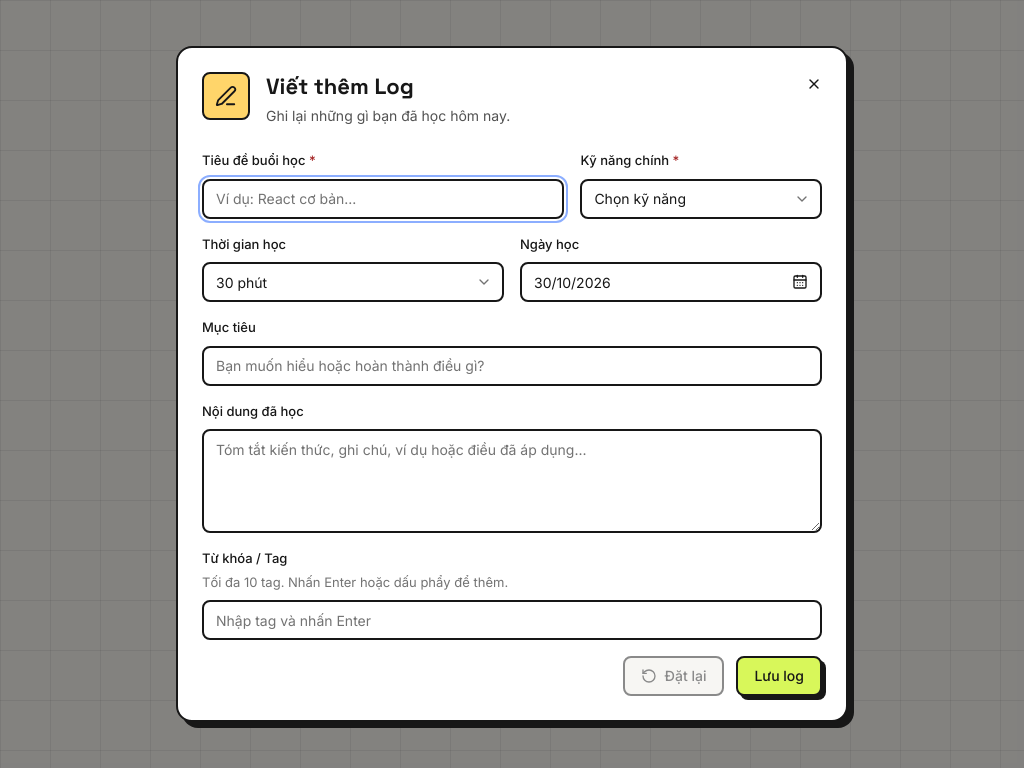
Scenario: closing and resetting › also asks when Escape is pressed on a changed form
Type "abc" into the field labelled "Tiêu đề buổi học *".
click(383, 199); type("abc")  # box [216,181,550,217]
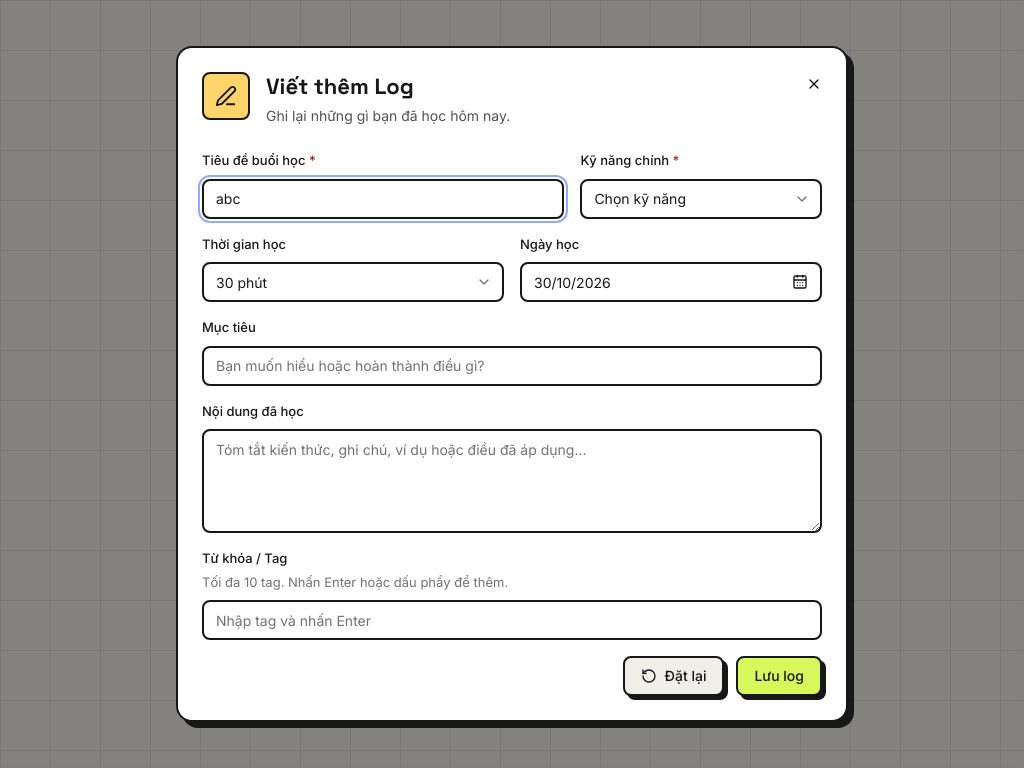
Press Escape
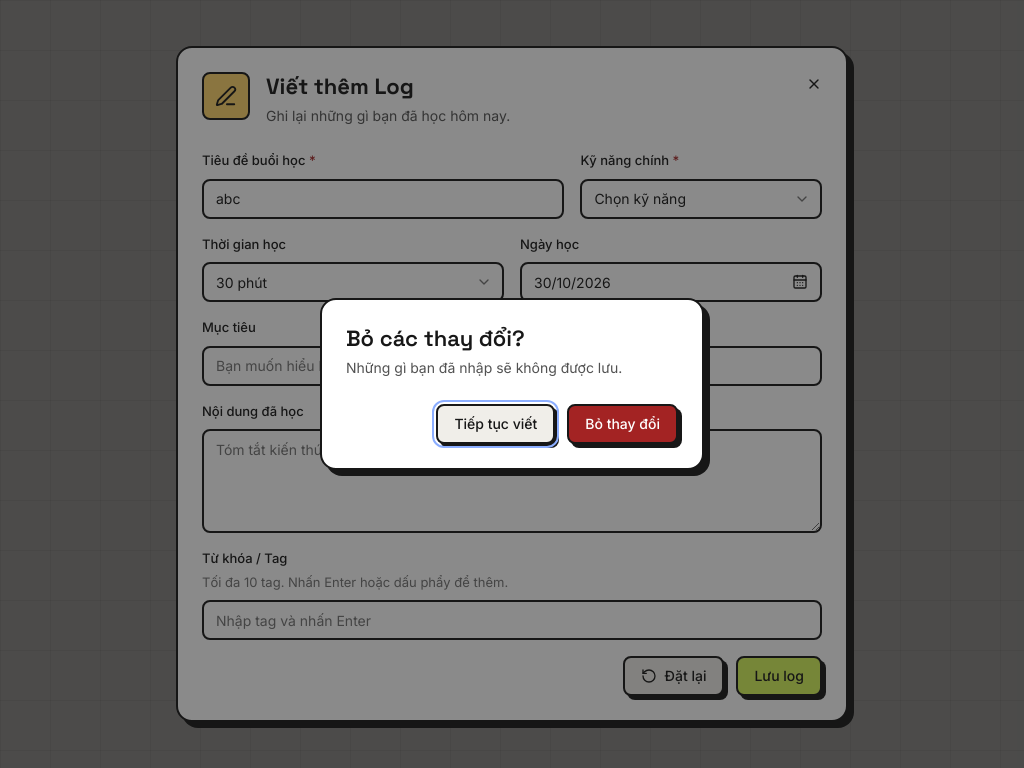
Result: the dialog is shown at [320,298,704,470]
